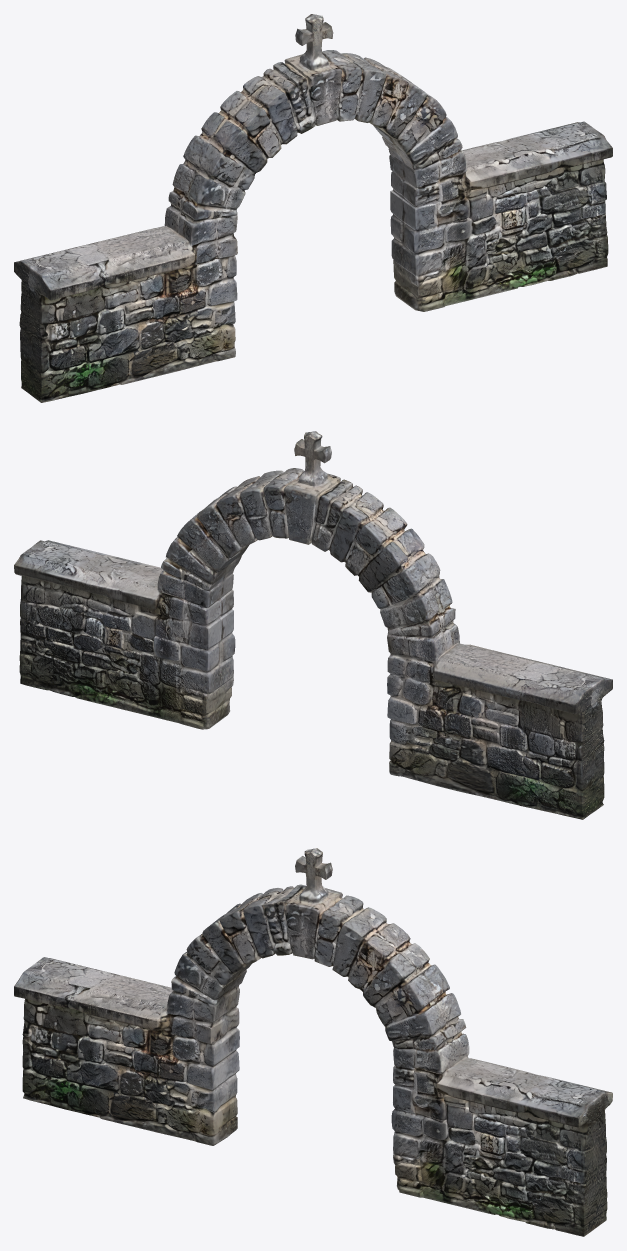
File: arcoP.obj
3 renders of one model, top to bottom at view 1: azimuth 30°, elevation 25°; view 2: azimuth 150°, elevation 25°; view 3: azimuth 330°, elevation 25°, orthographic.
Visible parts, largest first — view 1: model; view 2: model; view 3: model.
Boxes of the visible parts, x1=… form: model: x1=14, y1=14, x2=612, y2=402; model: x1=14, y1=431, x2=612, y2=819; model: x1=14, y1=848, x2=612, y2=1236.
Bounding box in the file's own units: 1.9 × 1 × 0.2156.
Materials: 1 (1 with a texture image).
